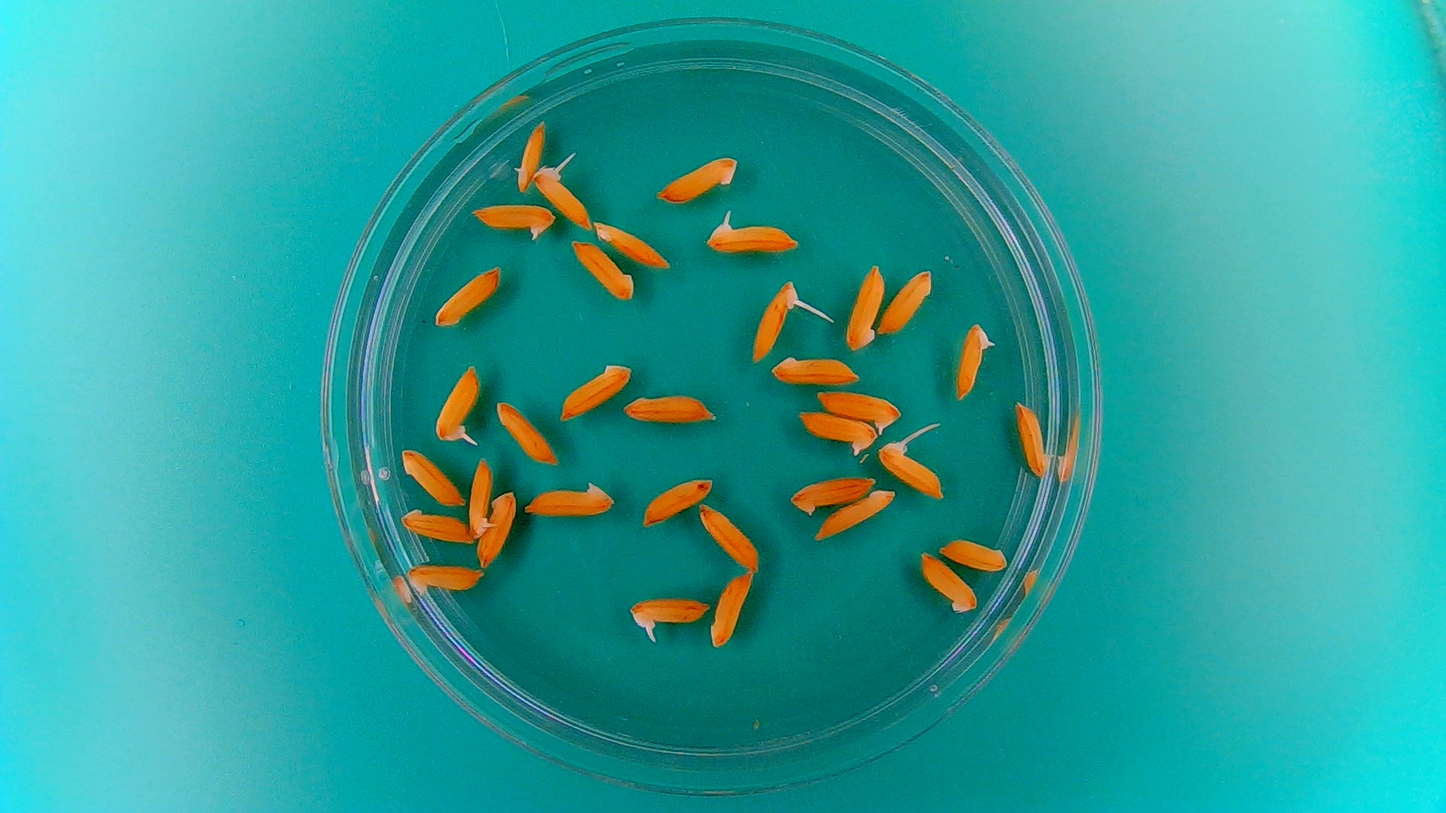no: (555, 357, 635, 424), (812, 483, 898, 542), (432, 263, 505, 329), (493, 397, 560, 467), (696, 500, 762, 571), (637, 472, 715, 529), (567, 239, 636, 303), (396, 446, 465, 509), (522, 478, 618, 523), (917, 549, 980, 617), (592, 220, 674, 272), (795, 405, 878, 456), (877, 264, 935, 336), (708, 568, 758, 650), (843, 260, 886, 355), (786, 471, 876, 516), (475, 486, 521, 571), (1011, 398, 1058, 481), (468, 199, 558, 242), (621, 390, 719, 428), (662, 151, 733, 202), (402, 560, 488, 601), (396, 505, 474, 546), (509, 117, 548, 196), (769, 354, 863, 386), (936, 534, 1010, 573)
yes: (808, 384, 905, 441), (746, 279, 801, 365), (701, 209, 802, 255), (529, 163, 595, 233), (876, 440, 948, 502), (434, 362, 483, 447), (952, 319, 996, 401), (627, 599, 712, 632), (467, 455, 496, 543)
